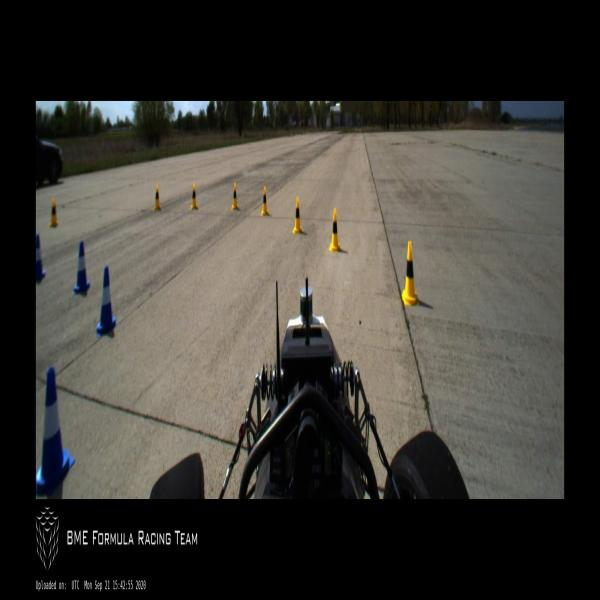blue_cone: (36, 367, 76, 496), (96, 264, 116, 337), (73, 240, 91, 297), (36, 234, 46, 284)
yellow_cone: (402, 241, 419, 307), (329, 208, 341, 252), (48, 196, 60, 229), (293, 196, 302, 234), (260, 184, 270, 215), (189, 182, 199, 210), (231, 181, 240, 211), (153, 183, 162, 211)
